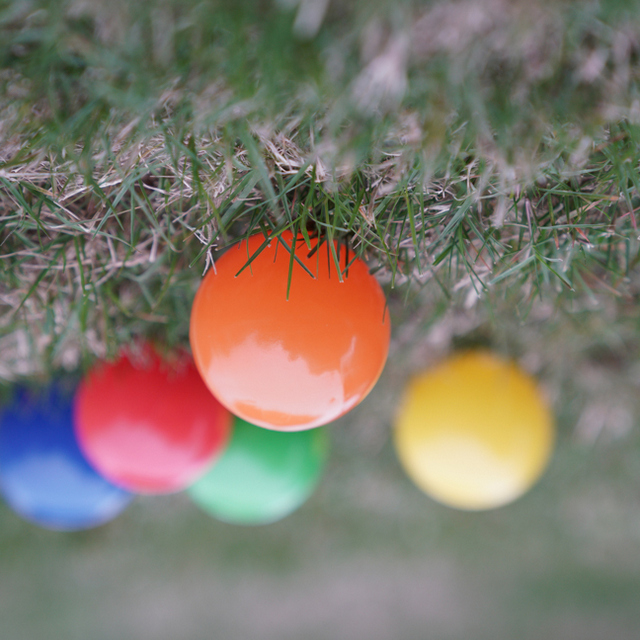Ball: (73, 344, 231, 496)
